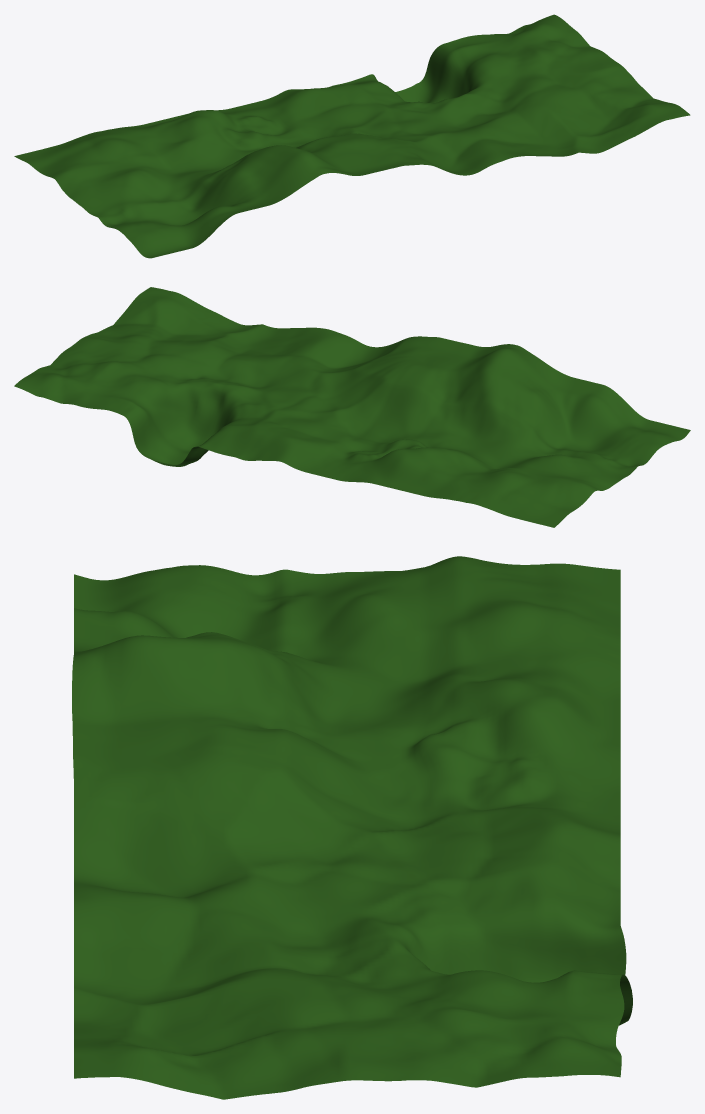
The model's file is Suelo Nivel.fbx.
3 views of the same model, one above another, from view 1: azimuth 30°, elevation 25°; view 2: azimuth 150°, elevation 25°; view 3: azimuth 270°, elevation 25° (orthographic). The views are drawn at different scales.
Parts seen in each view (by area): view 1: Suelo; view 2: Suelo; view 3: Suelo.
Boxes of the visible parts, <box> form: Suelo: <box>14,14,690,258</box>; Suelo: <box>14,287,690,527</box>; Suelo: <box>72,556,632,1099</box>.
Bounding box in the file's own units: 76570 × 11917 × 34412.
